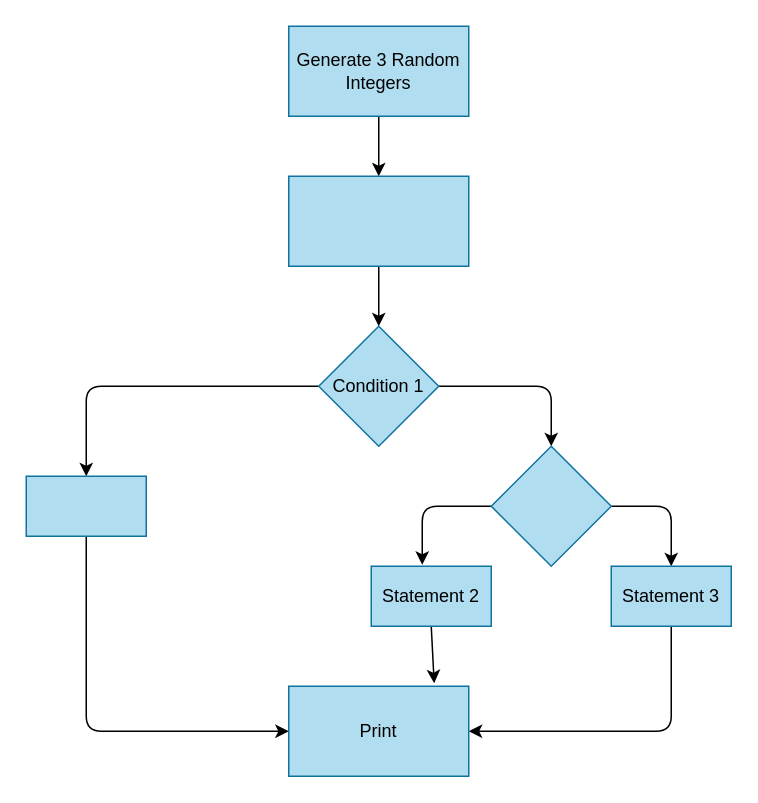
Image size: 758x803. Some labels were removed from this diagram. Here are the shapes that lost their labels. From the top down, the centre of each, then its label:
At [378,220]: "Set min_value as int".
At [85,505]: "Statement 1".
At [550,505]: "Condition 2".
